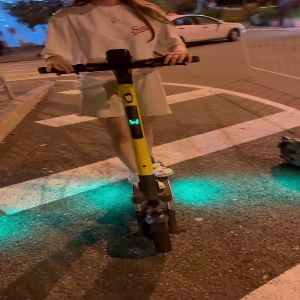human on a scooter: (36, 1, 203, 254)
